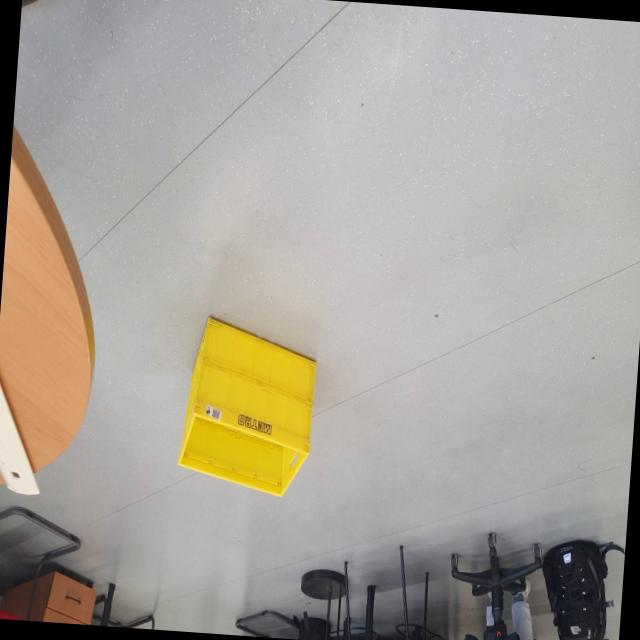box: (174, 298, 323, 513)
